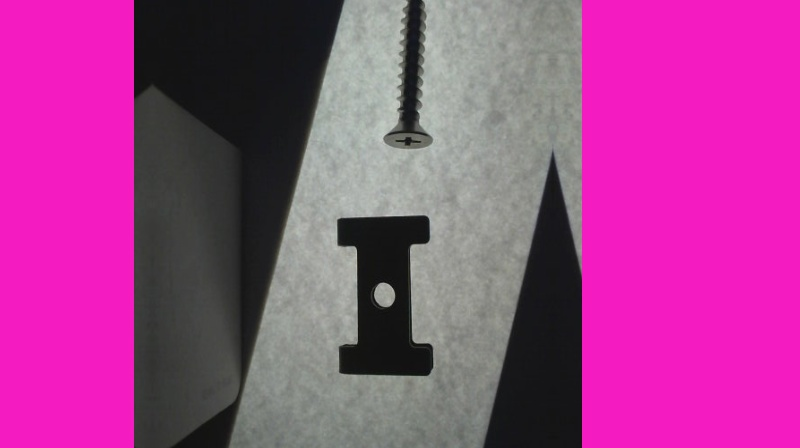O002: (331, 210, 436, 378)
S001: (383, 0, 436, 152)
